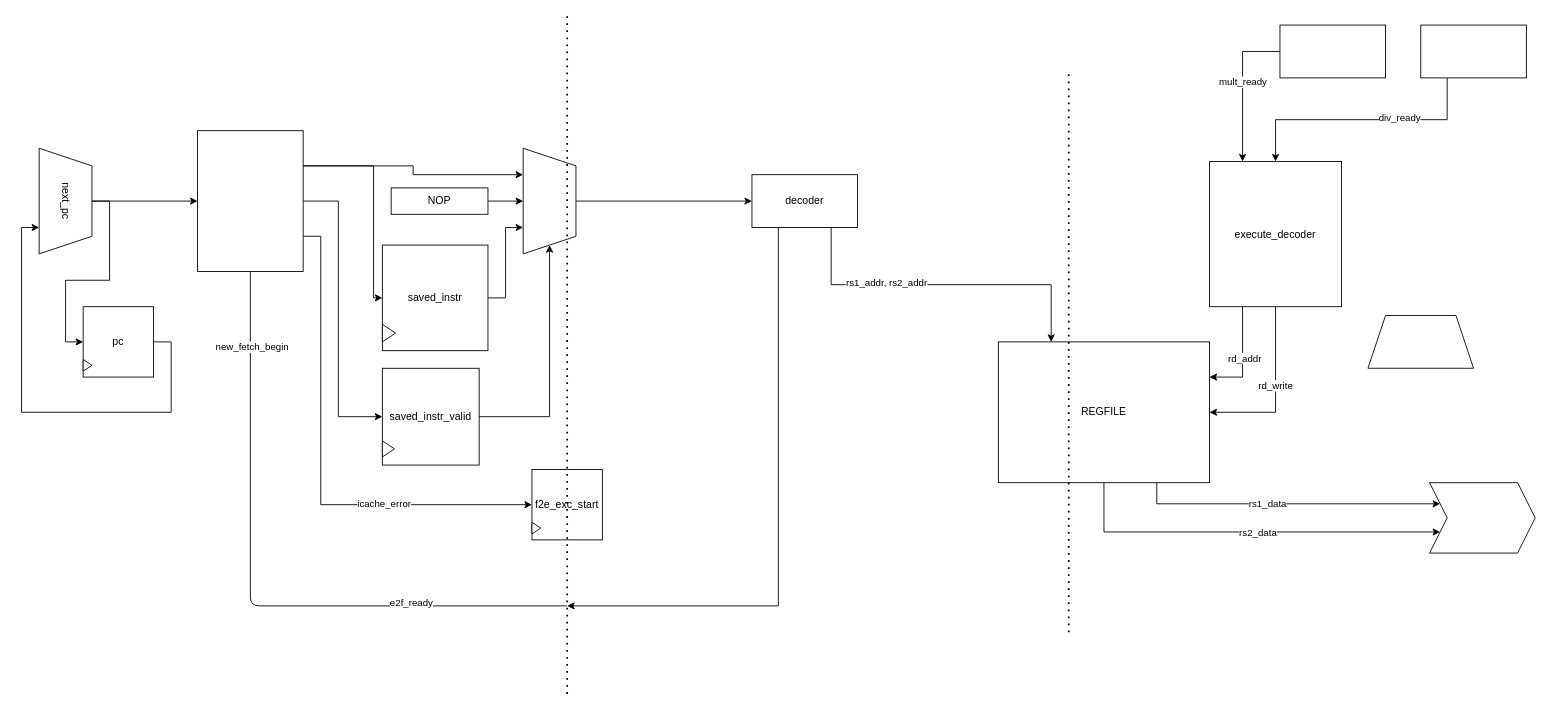
Some shapes in this 1551 by 710 pixel diagram are drawn without their labels. The shapes that lost their labels are listed below. From the top down, each one's centre as x and y in pixels, then its label:
(x=1332, y=51): MULT
(x=1473, y=51): DIV
(x=250, y=200): ICACHE
(x=549, y=200): f2e_instr
(x=1482, y=517): ALU
